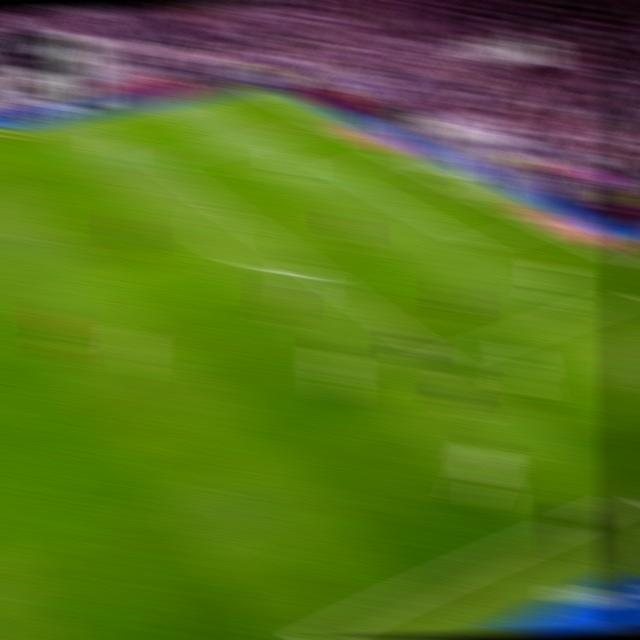bigarea_bottom_inner: (427, 346, 458, 371)
bigarea_top_inner: (144, 150, 174, 169)
bigarea_top_outter: (308, 114, 337, 132)
bottom_arc_area_intersection: (306, 263, 338, 286)
corner: (241, 84, 270, 98)
smallarea_bottom_inner: (462, 234, 493, 256)
smallarea_top_inner: (326, 162, 352, 178)
top_arc_area_intersection: (210, 196, 240, 216)
